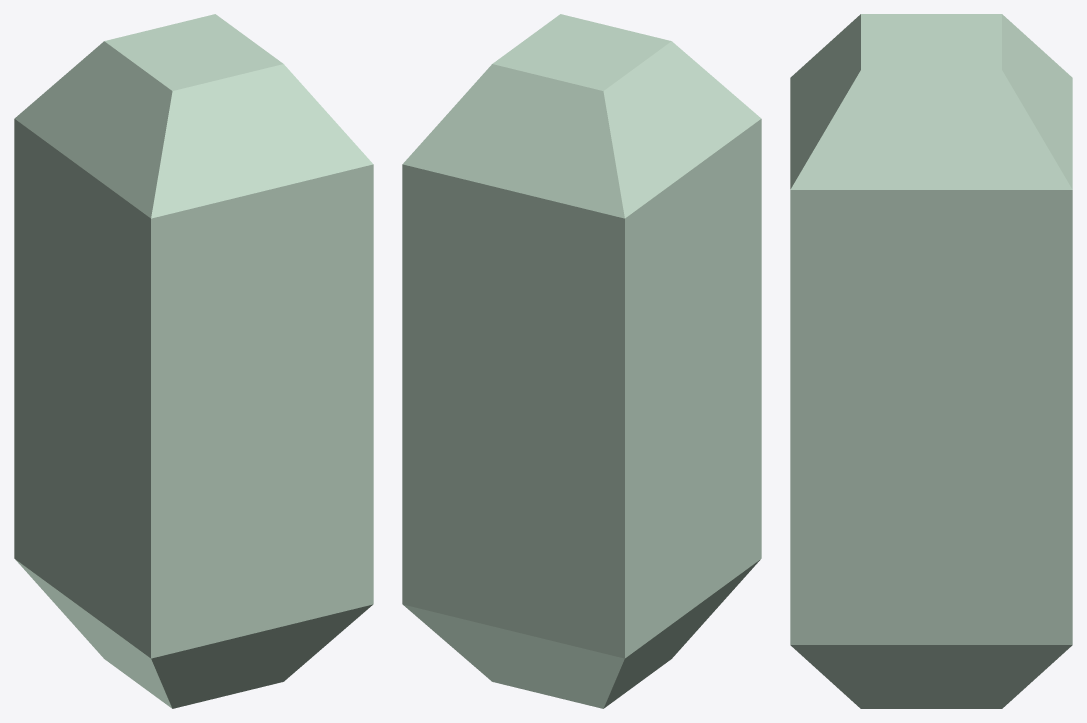
The model's file is SurvivorUpperArm.fbx.
The picture shows the model from 3 angles, left to right: view 1: azimuth 30°, elevation 25°; view 2: azimuth 150°, elevation 25°; view 3: azimuth 270°, elevation 25°; orthographic projection. The views are drawn at different scales.
Parts seen in each view (by area): view 1: SurvivorUpperArm; view 2: SurvivorUpperArm; view 3: SurvivorUpperArm.
Boxes of the visible parts, x1,y1,x2,y2 form: SurvivorUpperArm: (14, 14, 373, 708); SurvivorUpperArm: (402, 14, 761, 708); SurvivorUpperArm: (790, 14, 1072, 708).
Bounding box in the file's own units: 0.1568 × 0.4161 × 0.1668.
